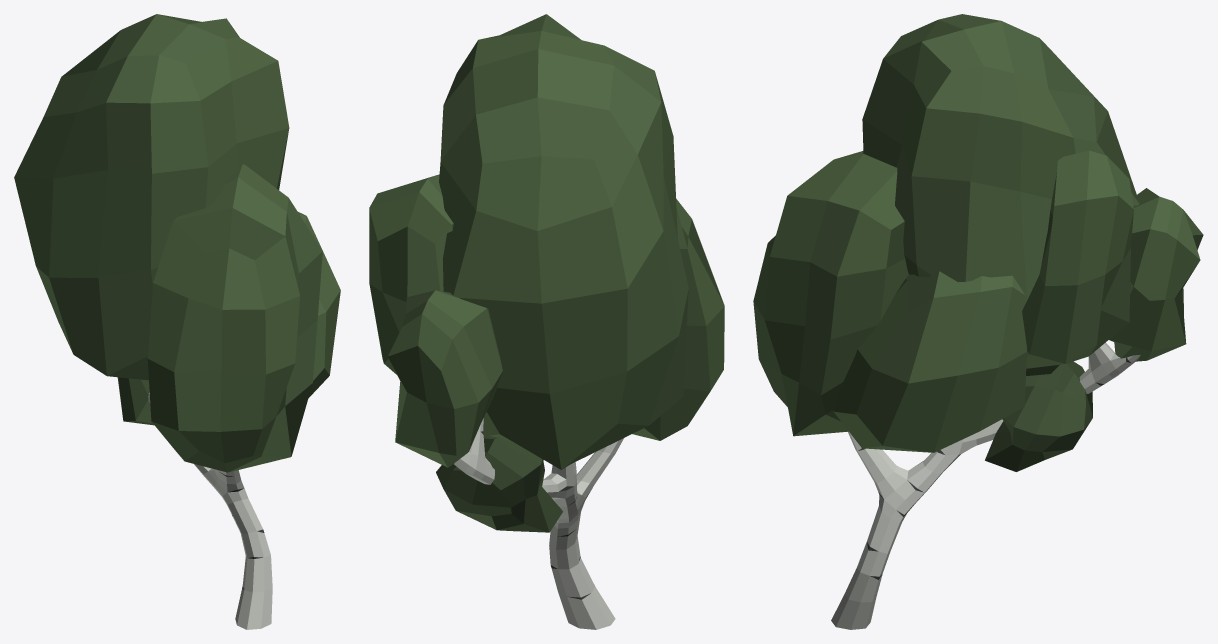
The model's file is BirchTree_1.gltf.
3 renders of one model, left to right at view 1: azimuth 30°, elevation 25°; view 2: azimuth 150°, elevation 25°; view 3: azimuth 270°, elevation 25°, orthographic. The views are drawn at different scales.
Parts seen in each view (by area): view 1: BirchTree_1; view 2: BirchTree_1; view 3: BirchTree_1.
Boxes of the visible parts, box(x1,y1,x2,y2) form: BirchTree_1: box(14, 14, 340, 629); BirchTree_1: box(369, 14, 724, 629); BirchTree_1: box(753, 14, 1203, 629).
Size of the model in its own units: 1.7 by 3.57 by 2.48.
